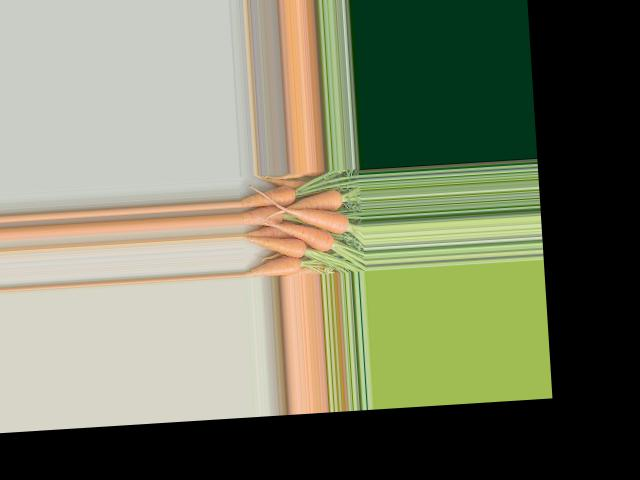carrot: (243, 261, 303, 276)
